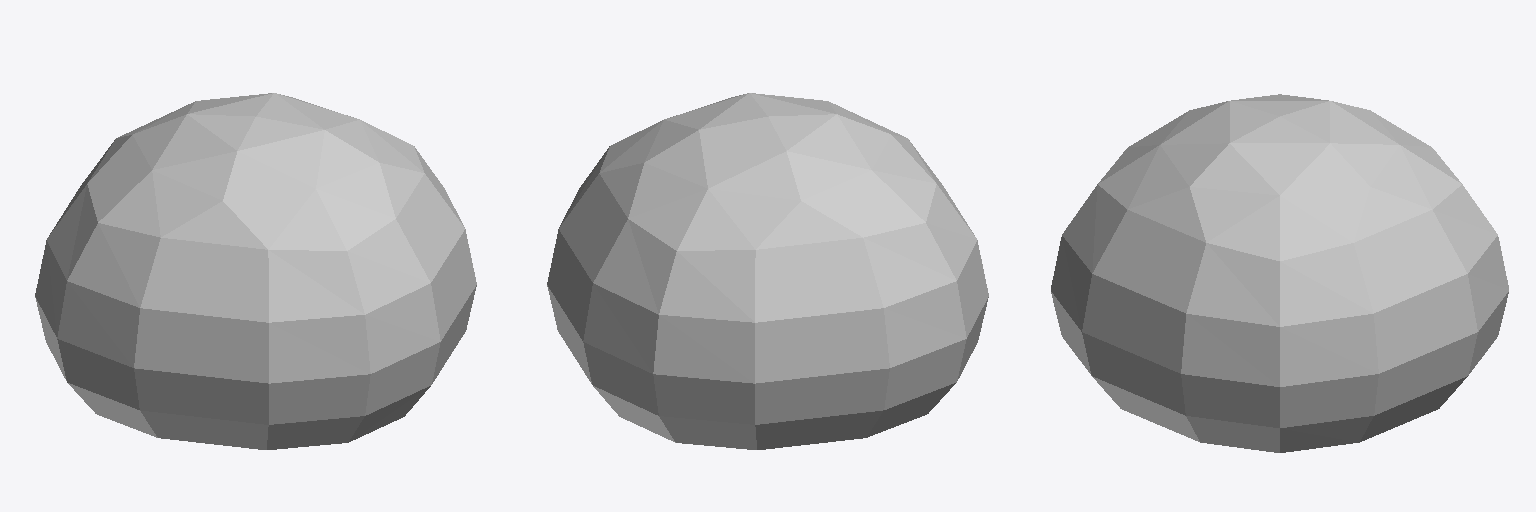
Rendered from Bush_1_C_Color1.obj.
3 views of the same model, side by side, from view 1: azimuth 30°, elevation 25°; view 2: azimuth 150°, elevation 25°; view 3: azimuth 270°, elevation 25° (orthographic).
Parts seen in each view (by area): view 1: Bush_1_C_Color1; view 2: Bush_1_C_Color1; view 3: Bush_1_C_Color1.
Part boxes in pixels (left/top/right/bottom): Bush_1_C_Color1: left=35, top=93, right=476, bottom=449; Bush_1_C_Color1: left=547, top=93, right=988, bottom=449; Bush_1_C_Color1: left=1051, top=94, right=1508, bottom=452.
Bounding box in the file's own units: 1.2 × 0.8074 × 1.2.